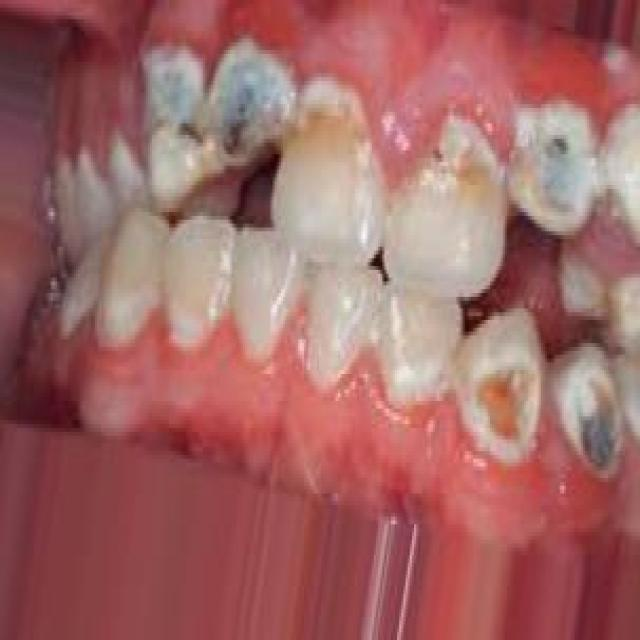caries: (208, 52, 281, 170), (570, 366, 630, 476), (473, 346, 531, 440), (547, 126, 578, 184)
